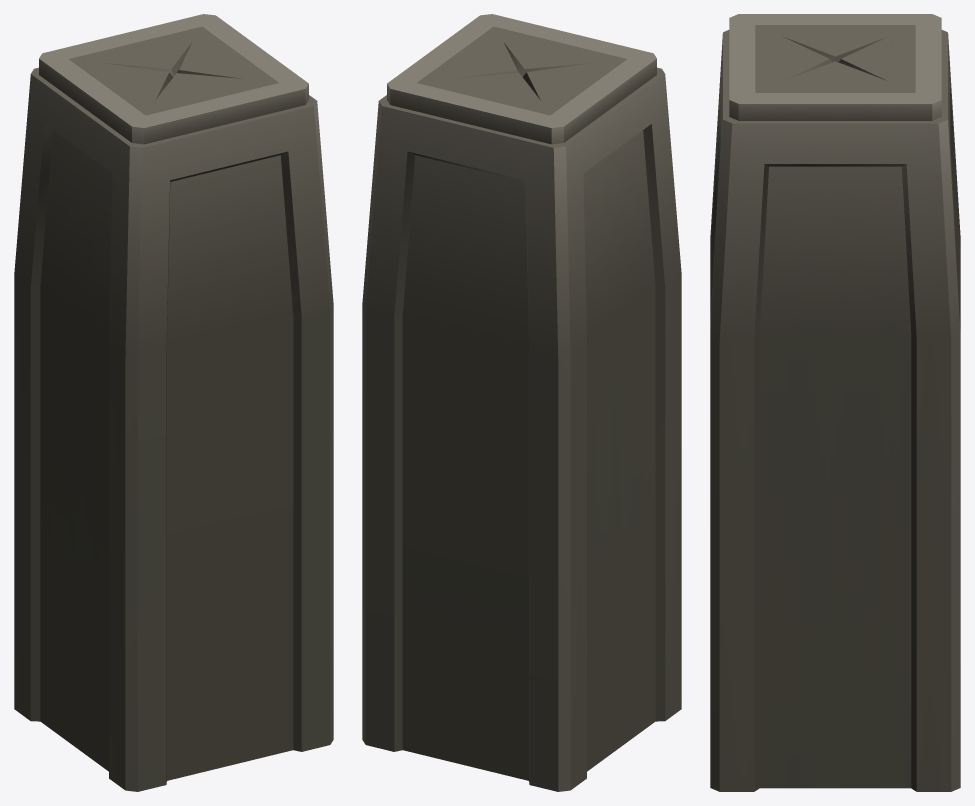
The model's file is Concrete_Block_1A.fbx.
3 renders of one model, left to right at view 1: azimuth 30°, elevation 25°; view 2: azimuth 150°, elevation 25°; view 3: azimuth 270°, elevation 25°, orthographic. The views are drawn at different scales.
Visible parts, largest first — view 1: Concrete_Block_1A; view 2: Concrete_Block_1A; view 3: Concrete_Block_1A.
Boxes of the visible parts, left/top/right/bottom form: Concrete_Block_1A: left=14, top=14, right=333, bottom=791; Concrete_Block_1A: left=362, top=14, right=681, bottom=791; Concrete_Block_1A: left=710, top=14, right=960, bottom=791.
Bounding box in the file's own units: 400 × 1200 × 400.
